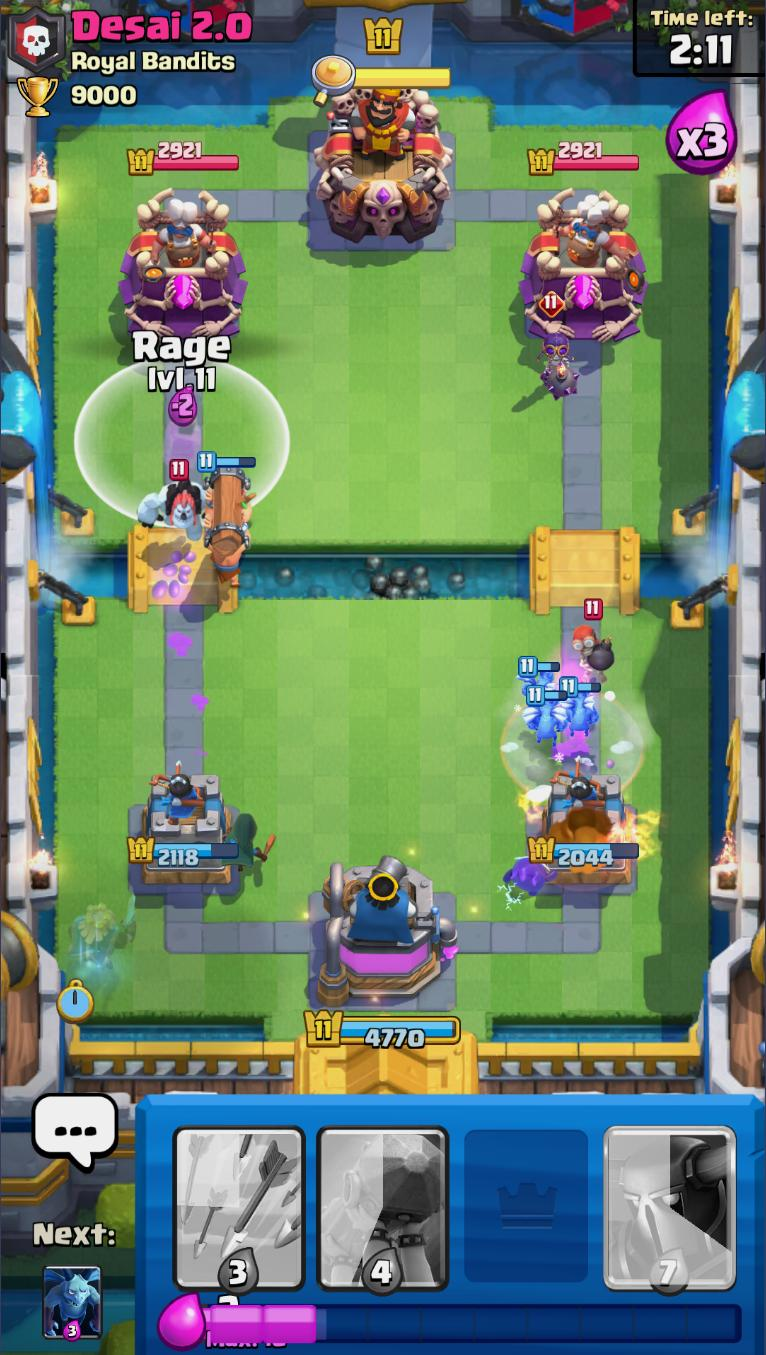ArrowDeck: (167, 1097, 313, 1290)
BattleRamDeck: (310, 1100, 456, 1296)
Bomber: (573, 597, 611, 683)
Chef: (147, 199, 220, 270), (540, 204, 614, 269)
Elixir: (202, 1296, 742, 1349)
Empty: (453, 1100, 599, 1300)
EnemyTower: (119, 189, 249, 344), (520, 189, 649, 343)
EvoBomber: (534, 291, 580, 400)
IceGolem: (135, 458, 226, 545)
KingTower: (314, 84, 456, 244)
MinionsNext: (41, 1261, 104, 1343)
MyBandit: (220, 810, 277, 876)
MyBattleRam: (196, 451, 256, 590)
MyElectroSpirit: (501, 851, 557, 900)
MyKingHP: (301, 1004, 463, 1053)
MyKingTower: (311, 853, 461, 1009)
MyMinion: (559, 679, 611, 736), (526, 686, 569, 747), (517, 654, 560, 704)
MyPrincessTower: (127, 774, 240, 889), (529, 774, 641, 890)
MyPrincessTowerHP: (126, 833, 241, 869), (529, 833, 641, 867)
MyRoyaleGhost: (69, 893, 139, 977)
PekkaDeck: (599, 1100, 744, 1297)
TowerPrincessHP: (529, 141, 641, 177), (129, 141, 241, 174)
